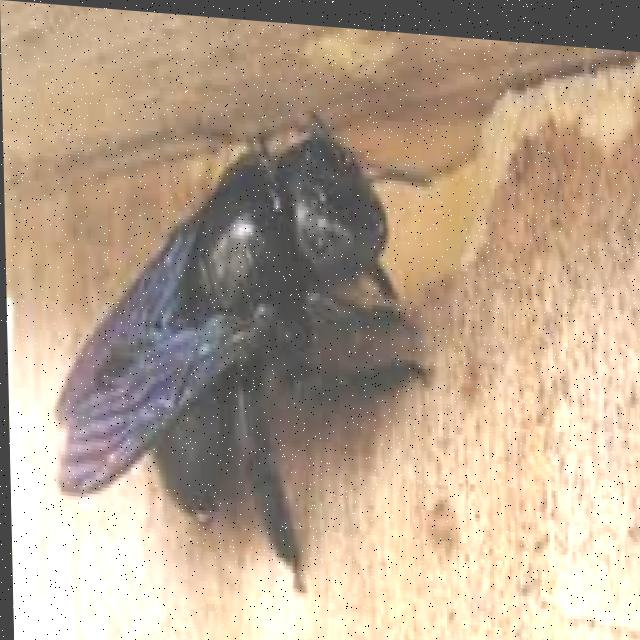Xylocopa: (43, 89, 447, 578)
